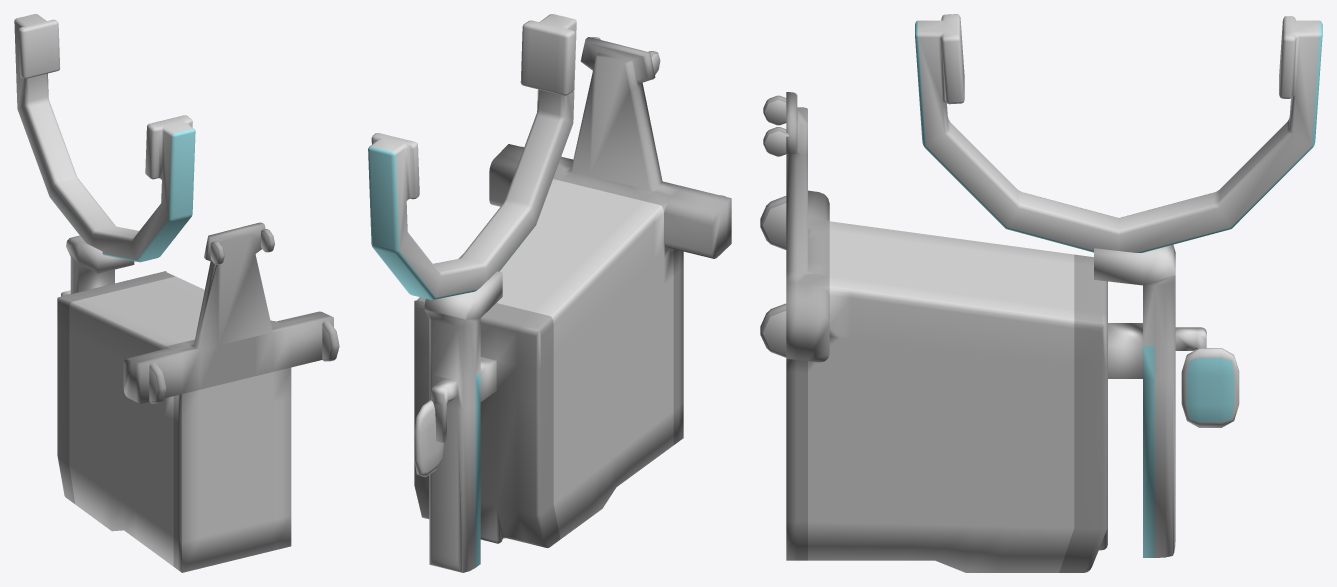
3 renders of one model, left to right at view 1: azimuth 30°, elevation 25°; view 2: azimuth 150°, elevation 25°; view 3: azimuth 270°, elevation 25°, orthographic. The views are drawn at different scales.
Parts seen in each view (by area): view 1: Circle.004; view 2: Circle.004; view 3: Circle.004.
Part boxes in pixels (bbox=[...]): Circle.004: bbox=[14, 14, 339, 572]; Circle.004: bbox=[368, 14, 731, 572]; Circle.004: bbox=[760, 14, 1322, 572].
Size of the model in its own units: 88.64 by 178 by 175.
